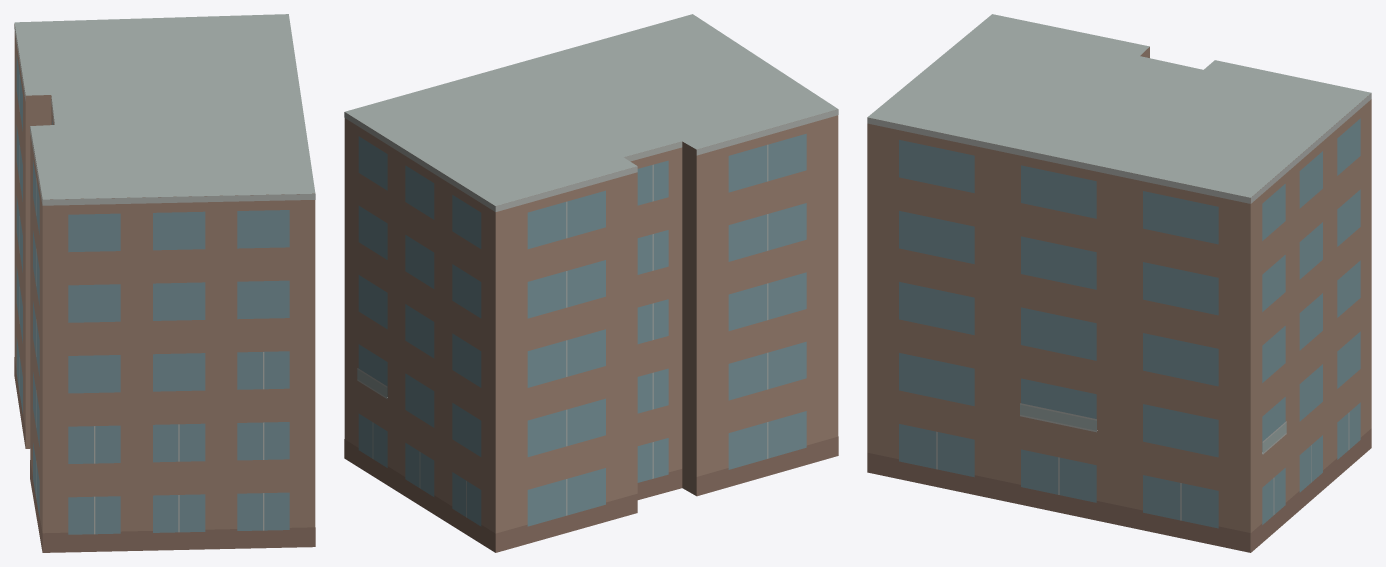
File: survey-upis-32886611.glb
The picture shows the model from 3 angles, left to right: view 1: azimuth 30°, elevation 25°; view 2: azimuth 150°, elevation 25°; view 3: azimuth 270°, elevation 25°; orthographic projection. The views are drawn at different scales.
Visible parts, largest first — view 1: survey-upis-32886611.tmp; view 2: survey-upis-32886611.tmp; view 3: survey-upis-32886611.tmp.
Boxes of the visible parts, <box> form: survey-upis-32886611.tmp: <box>14,14,315,552</box>; survey-upis-32886611.tmp: <box>344,14,838,552</box>; survey-upis-32886611.tmp: <box>867,14,1371,552</box>.
Size of the model in its own units: 15.66 by 14.1 by 18.16.
